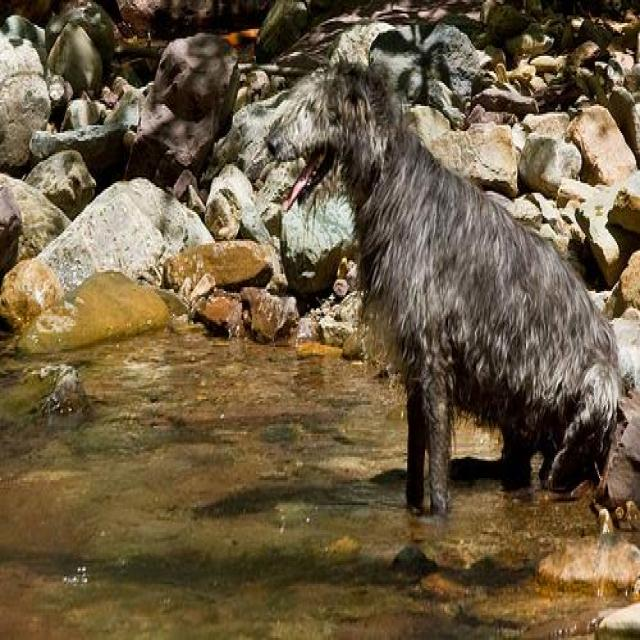irish_wolfhound: (261, 44, 621, 590)
